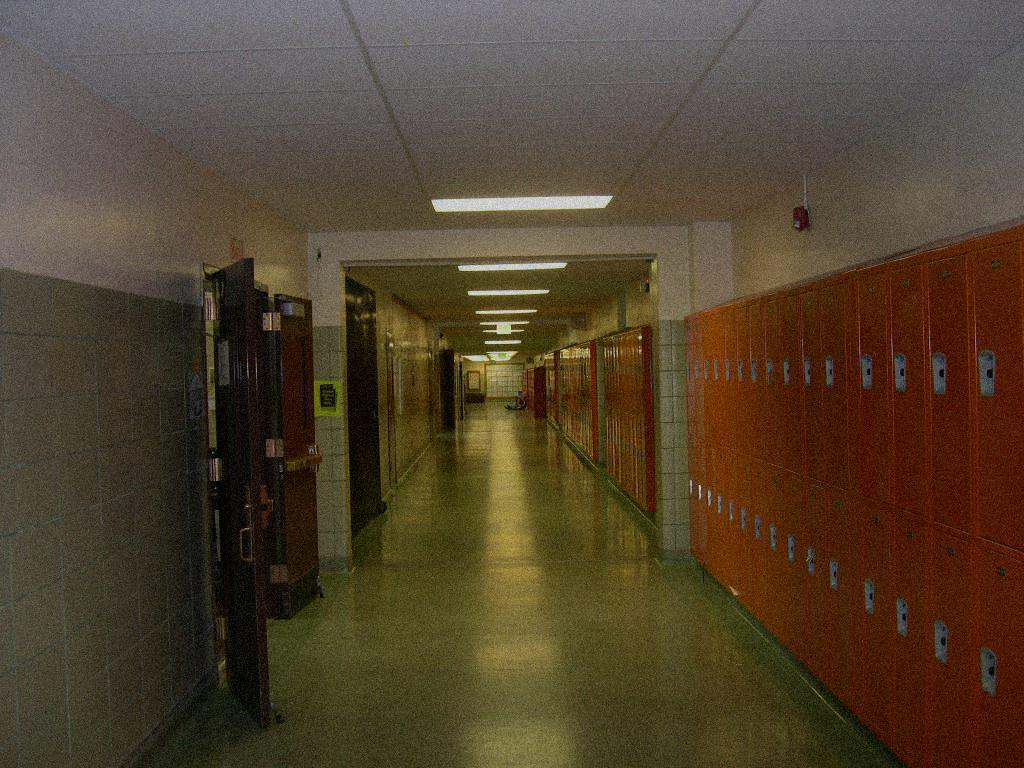Armario: (923, 259, 1020, 767), (855, 272, 925, 762), (802, 285, 854, 701), (742, 302, 798, 647), (684, 312, 740, 578)
Puerta: (200, 261, 273, 727), (281, 299, 319, 619)
